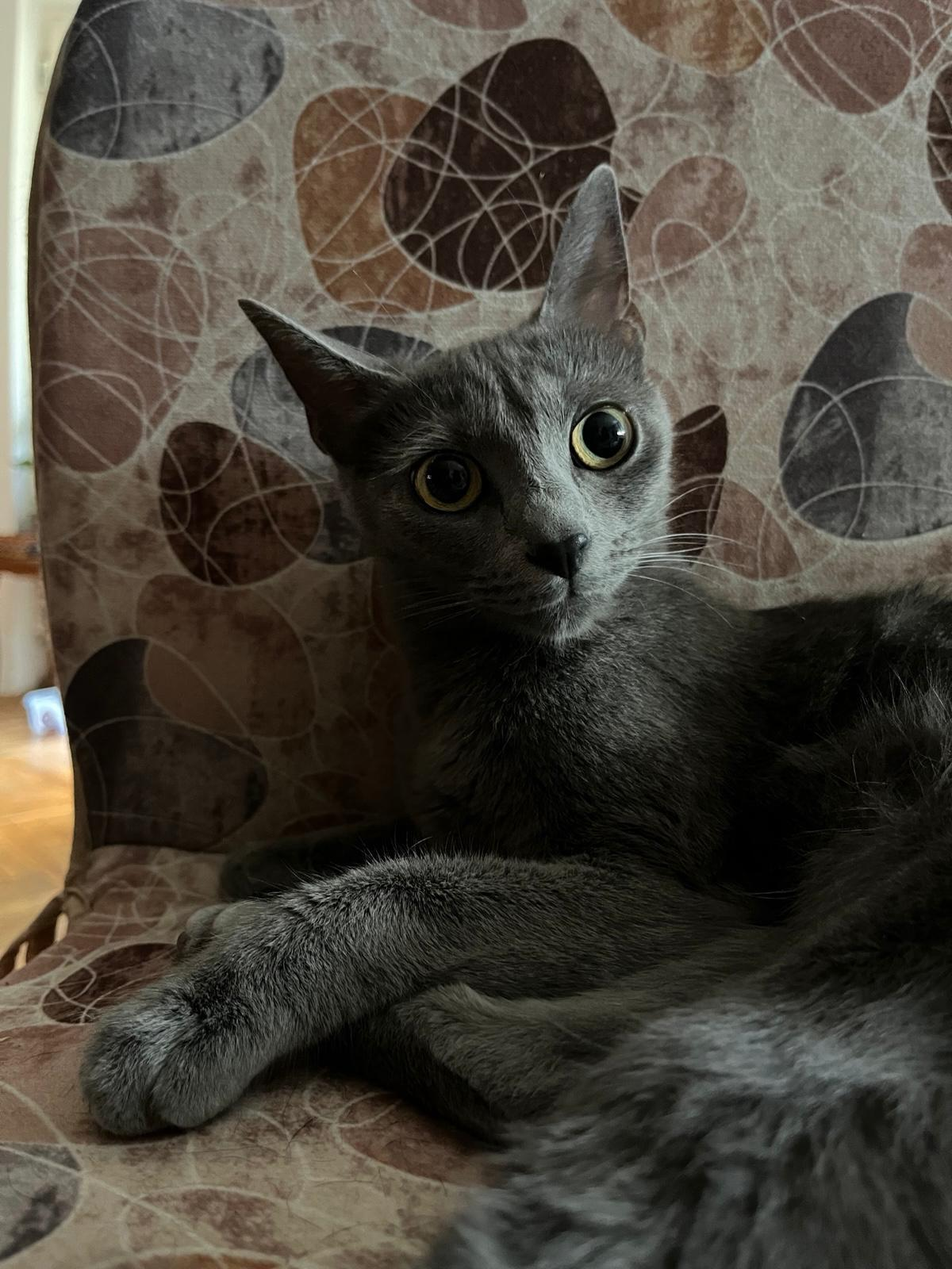macka: (76, 166, 951, 1268)
